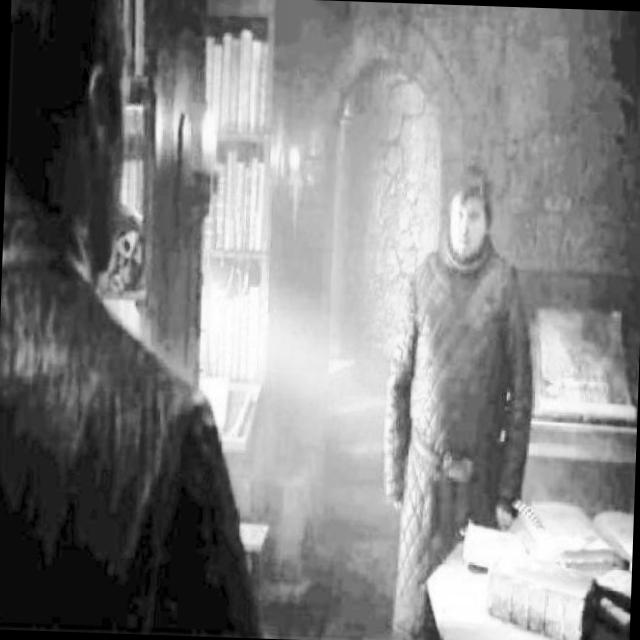Person: (371, 159, 548, 640)
